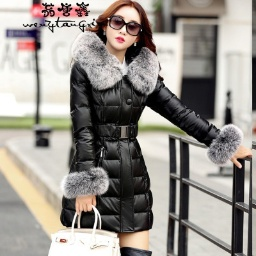face: (96, 1, 153, 56)
